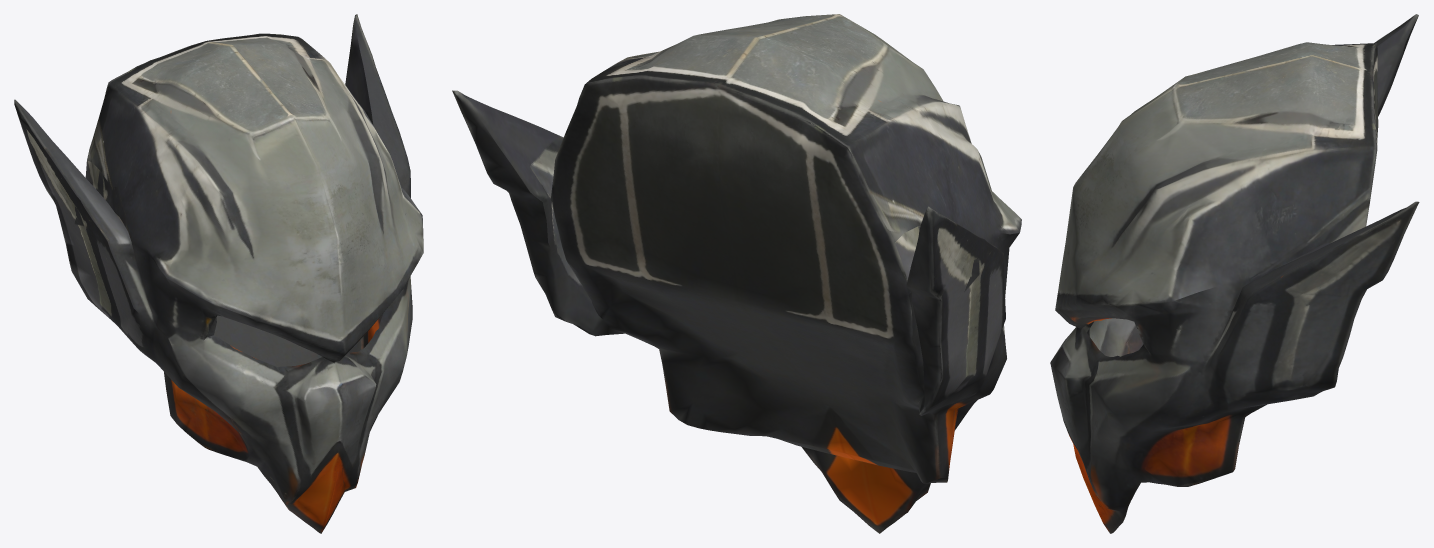
The model's file is boss_head.glb.
The picture shows the model from 3 angles, left to right: view 1: azimuth 30°, elevation 25°; view 2: azimuth 150°, elevation 25°; view 3: azimuth 270°, elevation 25°; orthographic projection. The views are drawn at different scales.
Parts seen in each view (by area): view 1: andross_head; view 2: andross_head; view 3: andross_head.
Boxes of the visible parts, box(x1,y1,x2,y2) form: andross_head: box(14, 14, 423, 533); andross_head: box(452, 14, 1021, 533); andross_head: box(1050, 14, 1419, 533).
Size of the model in its own units: 1.71 by 2.01 by 1.41.
1 material, 1 textured.
